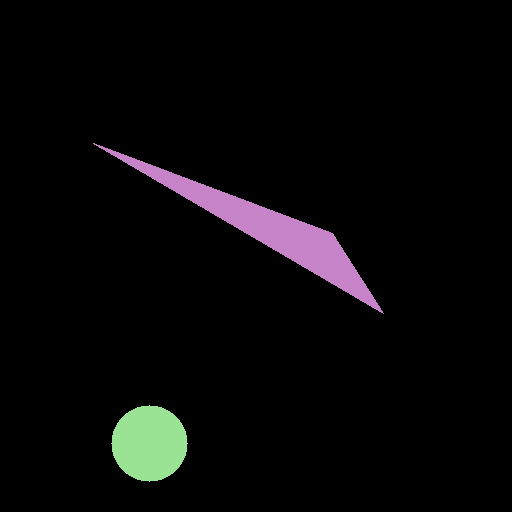circle: (111, 405, 187, 481)
triangle: (93, 143, 383, 313)
